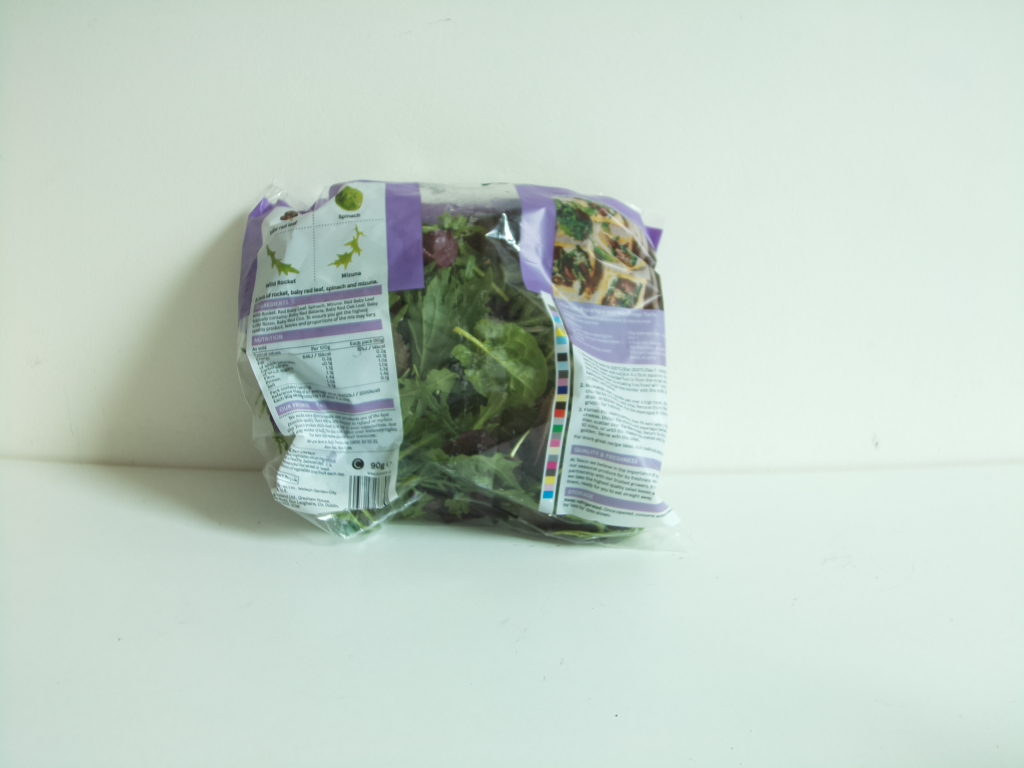salad: (242, 187, 670, 545)
